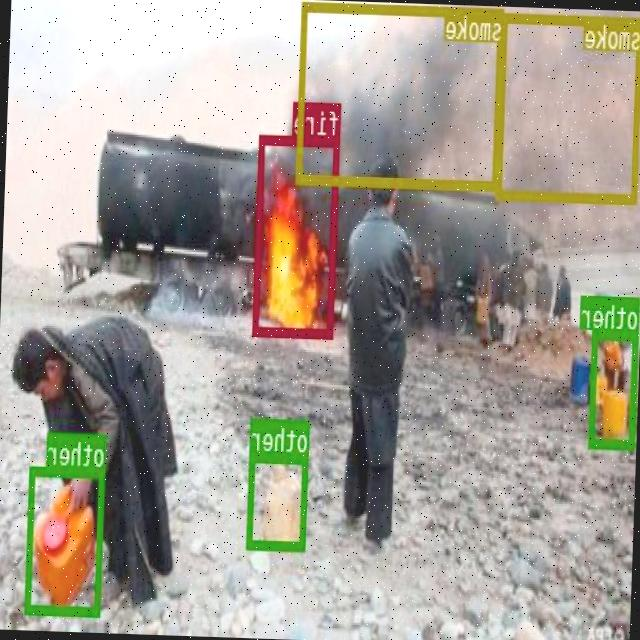fire: (254, 132, 340, 336)
smoke: (297, 0, 505, 188), (497, 11, 640, 202)
